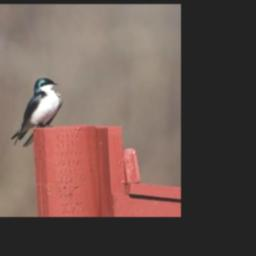Swallow: (11, 76, 63, 146)
